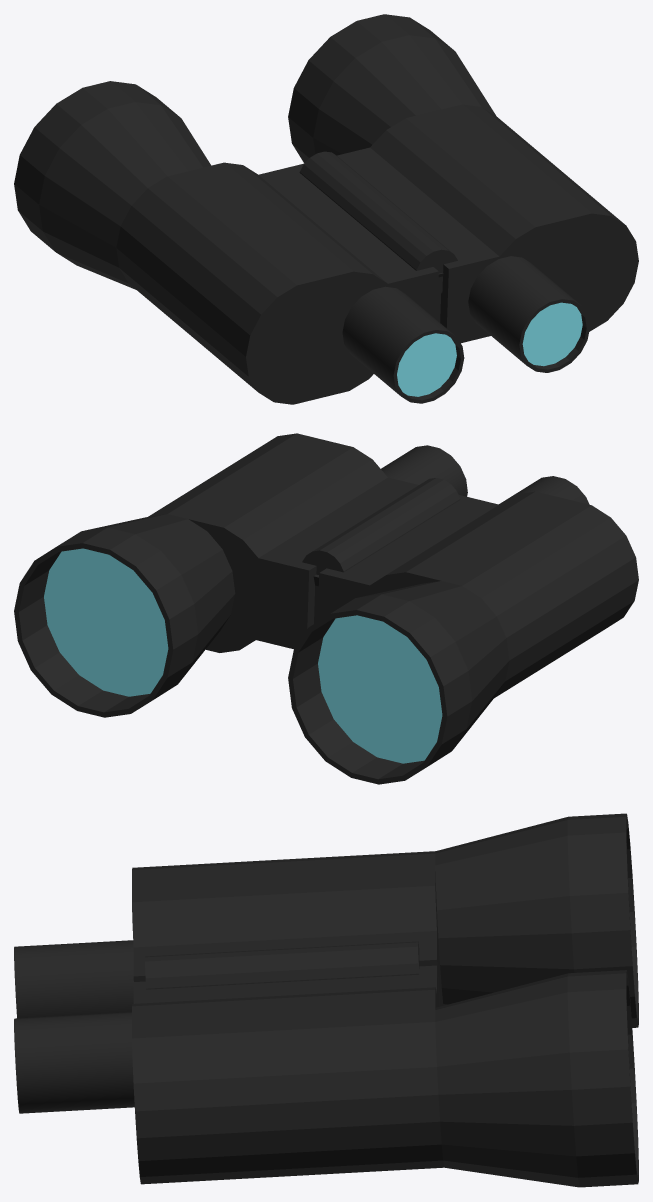
Rendered from fffe317f-3c82-4447-a0a1-317c2972889f.glb.
3 renders of one model, top to bottom at view 1: azimuth 30°, elevation 25°; view 2: azimuth 150°, elevation 25°; view 3: azimuth 270°, elevation 25°, orthographic. The views are drawn at different scales.
Visible parts, largest first — view 1: Cylinder001, Cylinder004, Cylinder005, Cylinder006; view 2: Cylinder001, Cylinder006, Cylinder004, Cylinder005; view 3: Cylinder001, Cylinder004, Cylinder006, Cylinder005.
Part boxes in pixels (x1,y1,x2,y2): Cylinder001: (14, 14, 638, 404); Cylinder004: (468, 256, 589, 372); Cylinder005: (342, 286, 464, 403); Cylinder006: (299, 151, 457, 294); Cylinder001: (14, 433, 638, 784); Cylinder006: (302, 478, 460, 574); Cylinder004: (381, 445, 467, 496); Cylinder005: (499, 476, 589, 504); Cylinder001: (132, 813, 638, 1187); Cylinder004: (14, 1012, 134, 1113); Cylinder006: (145, 941, 419, 989); Cylinder005: (14, 940, 133, 1018).
Bounding box in the file's own units: 554015 × 203539 × 591047.
